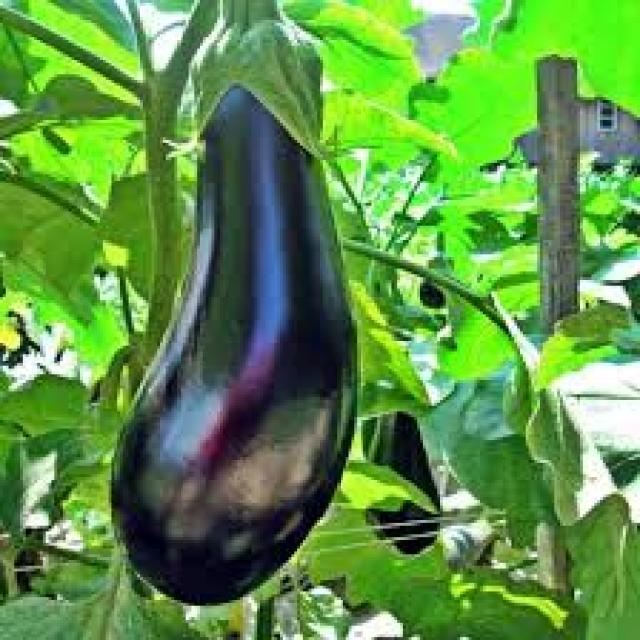eggplant: (106, 26, 351, 603)
